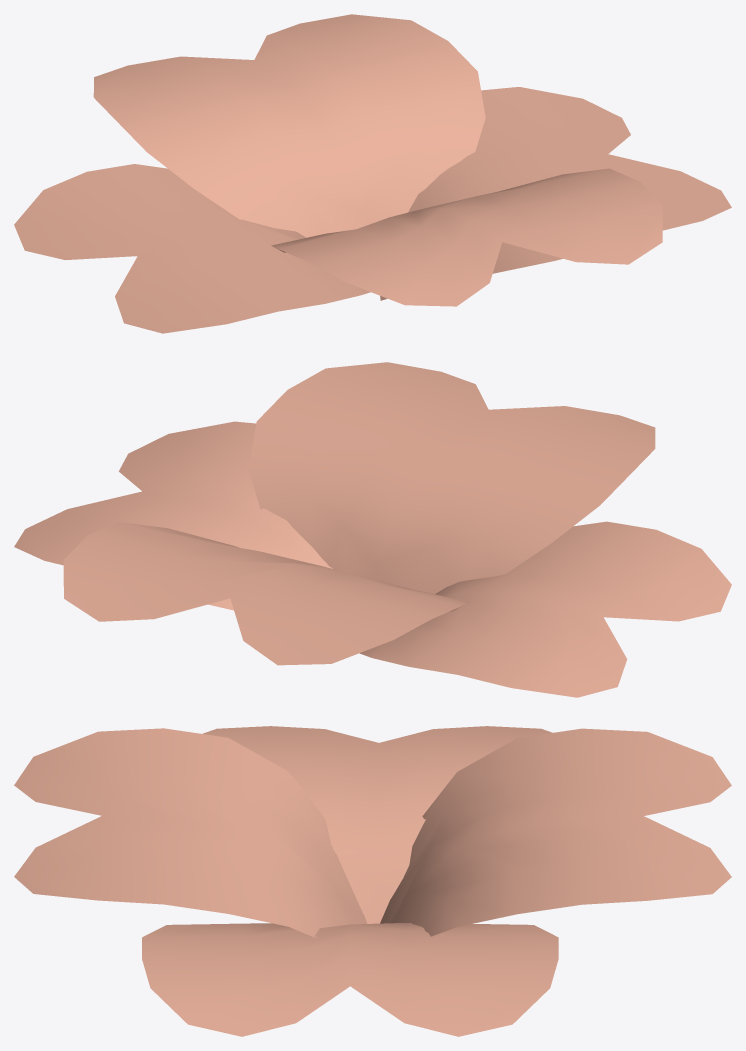
File: Flower2.fbx
The picture shows the model from 3 angles, top to bottom: view 1: azimuth 30°, elevation 25°; view 2: azimuth 150°, elevation 25°; view 3: azimuth 270°, elevation 25°; orthographic projection. The views are drawn at different scales.
Visible parts, largest first — view 1: pPlane42, pPlane44, pPlane43, pPlane41; view 2: pPlane43, pPlane44, pPlane42, pPlane41; view 3: pPlane43, pPlane42, pPlane41, pPlane44.
Boxes of the visible parts, x1,y1,x2,y2 form: pPlane42: (93,14,485,237); pPlane44: (14,164,370,333); pPlane43: (271,168,662,306); pPlane41: (380,87,731,300); pPlane43: (248,362,655,594); pPlane44: (359,521,731,697); pPlane42: (63,522,469,665); pPlane41: (14,421,332,610); pPlane43: (14,728,367,937); pPlane42: (380,728,731,936); pPlane41: (142,923,558,1036); pPlane44: (202,726,552,923).
Size of the model in its own units: 1.21 by 0.2789 by 1.18.
